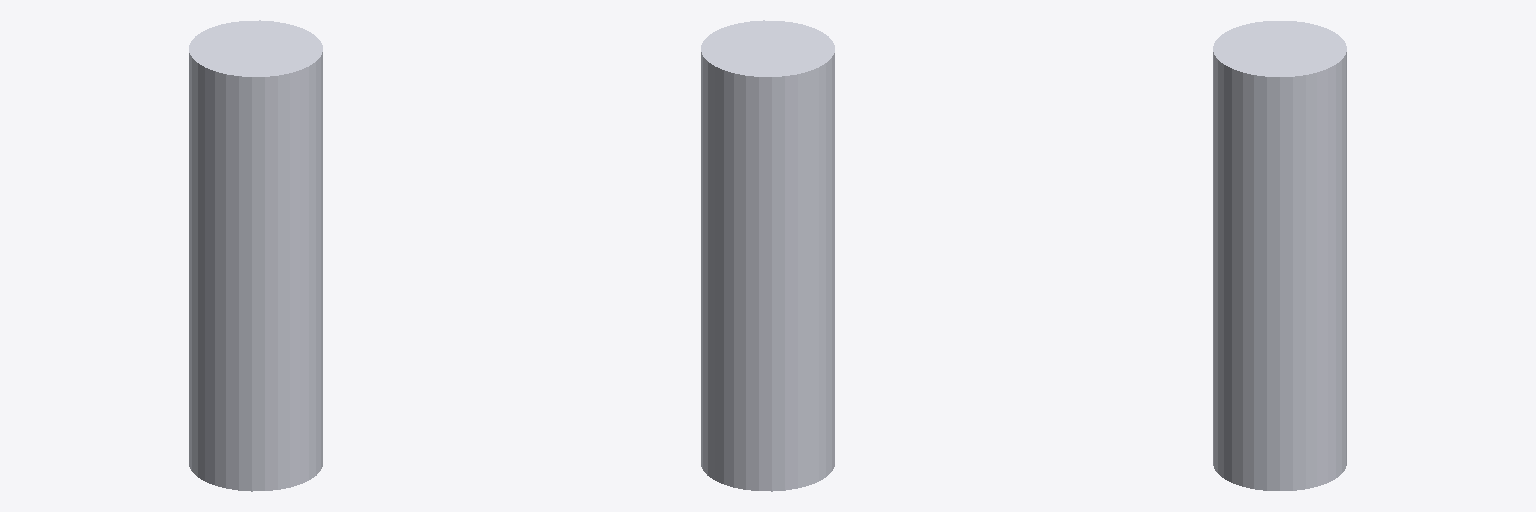
robot.urdf — miniBox:
<?xml version='1.0'?>
<robot name="miniBox">

    <!-- Base Link -->
    <link name="base_link">
        <visual>
        <origin xyz="0 0 0" rpy="0 0 0" />
        <geometry>
            <cylinder length="1.7" radius="0.25" />
        </geometry>
        <material name="white">
            <color rgba="0.90 0.91 0.95 1"/>
        </material>
        </visual>
        <!-- Base collision, mass and inertia -->
        <collision>
            <origin xyz="0 0 0" rpy="0 0 0" />
            <geometry>
                <cylinder length="1.7" radius="0.25" />
            </geometry>
        </collision>
            <inertial>
            <mass value="60"/>
          <inertia ixx="100" ixy="0.0" ixz="0.0" iyy="100" iyz="0.0" izz="100"/>

        </inertial>
    </link>


</robot>

--- Render facts (derived) ---
Views: 3 orthographic renders of the robot side by side, from view 1: azimuth 30°, elevation 25°; view 2: azimuth 150°, elevation 25°; view 3: azimuth 270°, elevation 25°.
Model miniBox with 1 links and 0 joints (none), rooted at base_link, posed all joints at 0.
Visible links, largest first — view 1: base_link; view 2: base_link; view 3: base_link.
Link boxes in pixels (left/top/right/bottom): base_link: left=189, top=20, right=322, bottom=491; base_link: left=701, top=20, right=834, bottom=491; base_link: left=1213, top=21, right=1346, bottom=490.
Bounding box of the posed robot: 0.5 × 0.5 × 1.7 m (x, y, z).
Geometry: primitives only (box / cylinder / sphere), no mesh files.